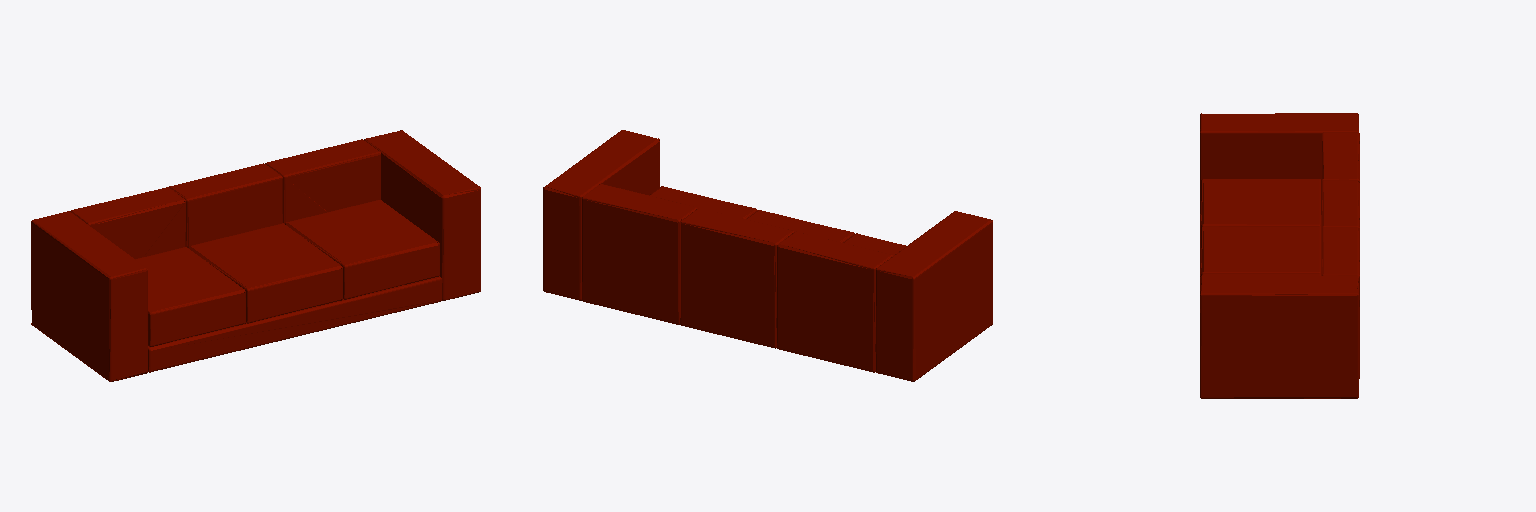
Rendered from couch.obj.
3 views of the same model, side by side, from view 1: azimuth 30°, elevation 25°; view 2: azimuth 150°, elevation 25°; view 3: azimuth 270°, elevation 25° (orthographic).
Visible parts, largest first — view 1: couch; view 2: couch; view 3: couch.
Boxes of the visible parts, <box> form: couch: <box>31,130,480,381</box>; couch: <box>543,130,992,381</box>; couch: <box>1200,113,1359,398</box>.
Size of the model in its own units: 101 by 27.34 by 37.67.